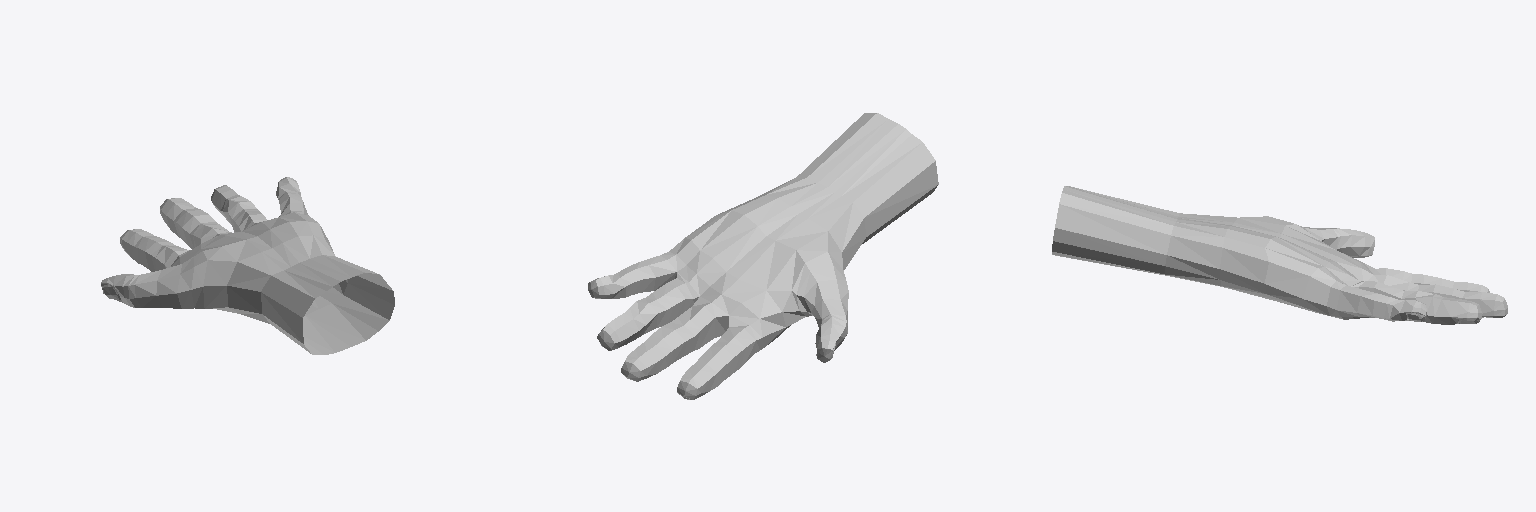
The model's file is handAnimated4_000089.obj.
3 renders of one model, left to right at view 1: azimuth 30°, elevation 25°; view 2: azimuth 150°, elevation 25°; view 3: azimuth 270°, elevation 25°, orthographic.
Visible parts, largest first — view 1: Cube.000_Cube.017_Detached_Detached; view 2: Cube.000_Cube.017_Detached_Detached; view 3: Cube.000_Cube.017_Detached_Detached.
Part boxes in pixels (left/top/right/bottom): Cube.000_Cube.017_Detached_Detached: left=101, top=177, right=394, bottom=354; Cube.000_Cube.017_Detached_Detached: left=588, top=113, right=938, bottom=399; Cube.000_Cube.017_Detached_Detached: left=1052, top=186, right=1507, bottom=324.
Size of the model in its own units: 0.7408 by 0.4077 by 1.33.